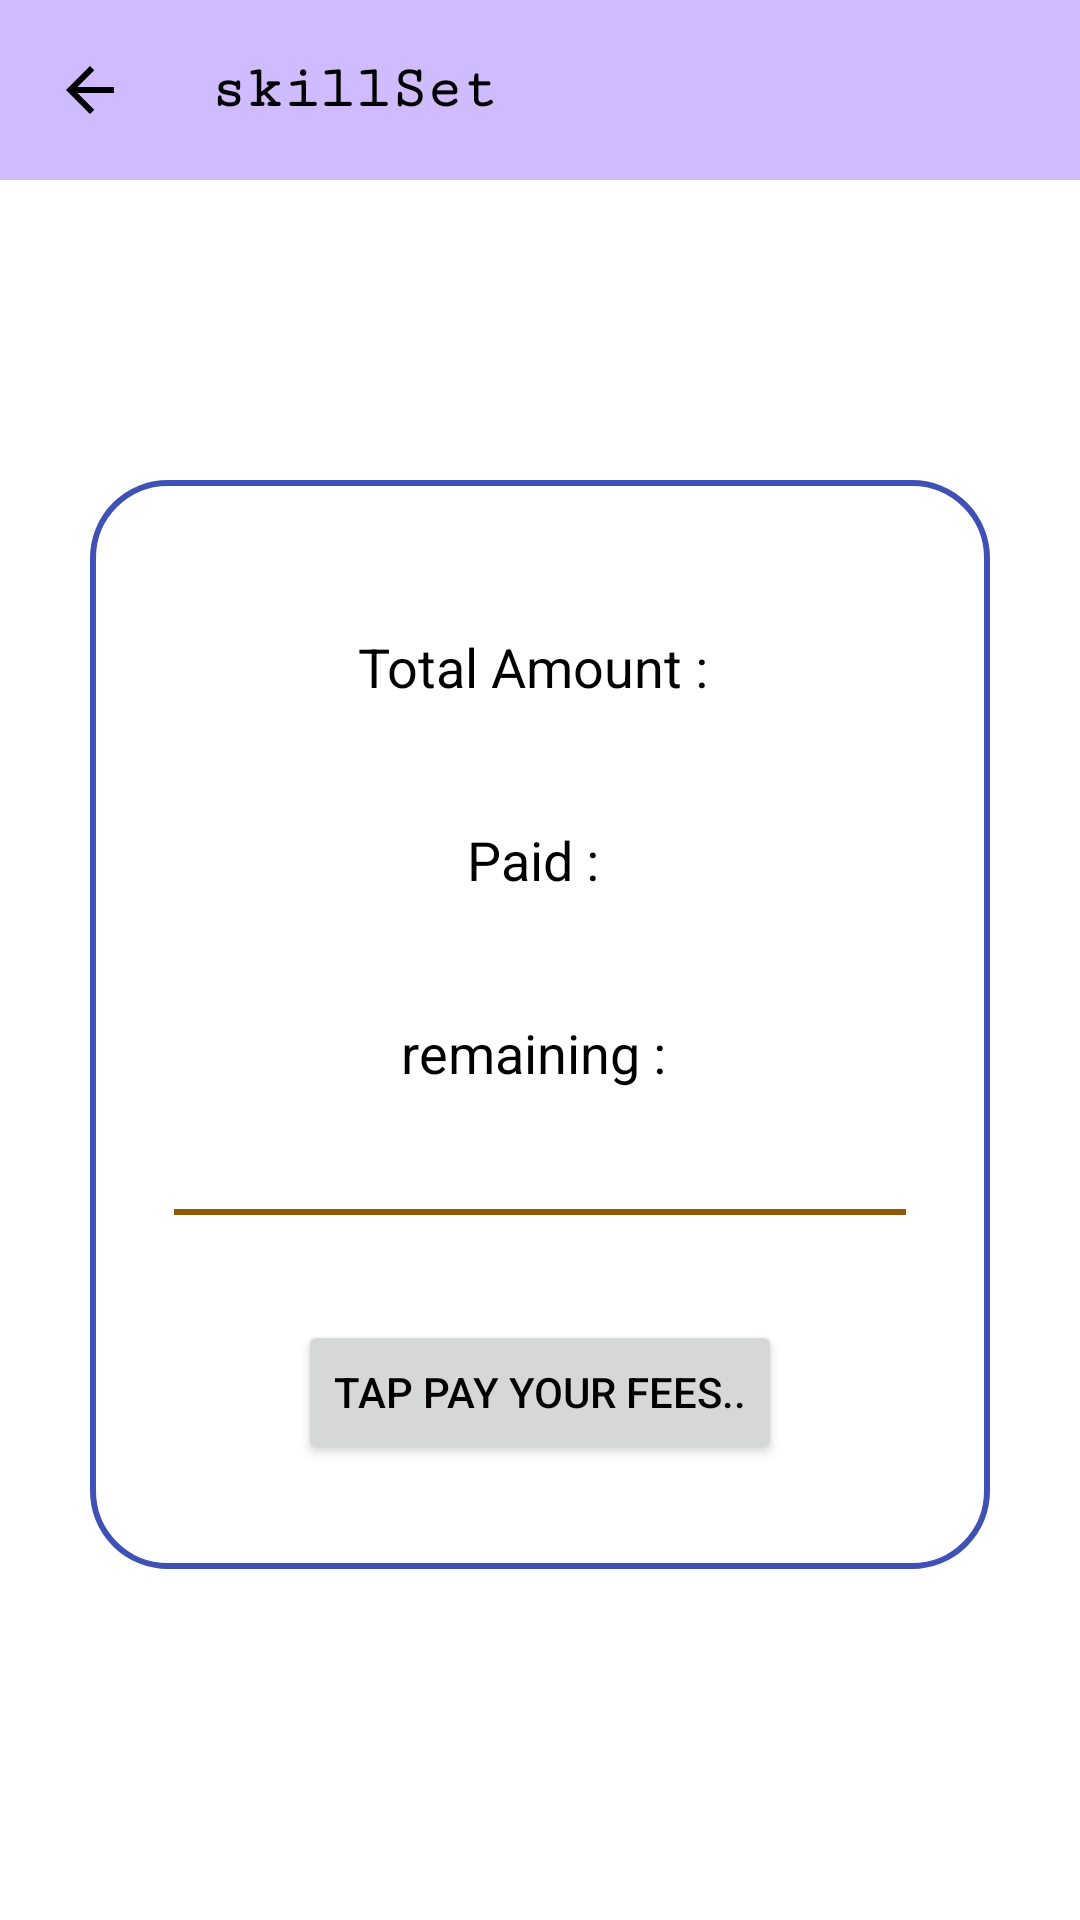

Screen size 1080 x 1920. Icon name, then its box in pixels as box(x1, y1, x2, y2):
file back: box(66, 66, 114, 114)
